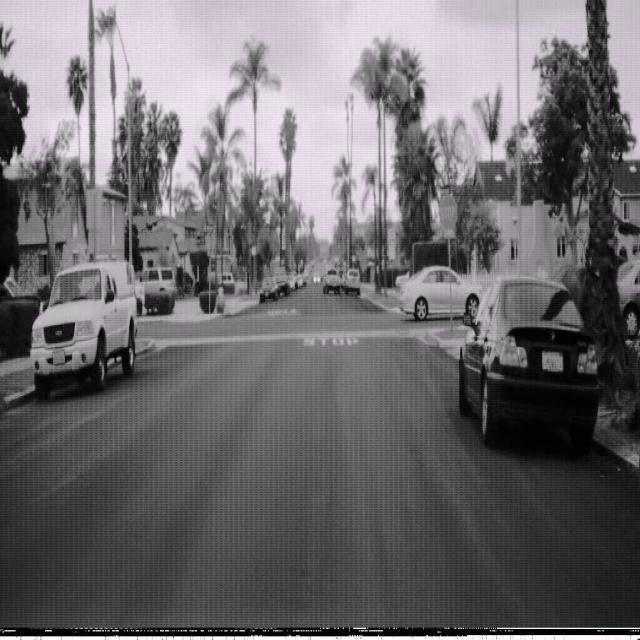stop: (438, 194, 458, 232)
